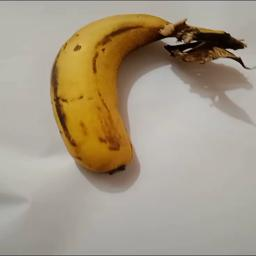Banana Semifresh: (50, 13, 249, 172)
